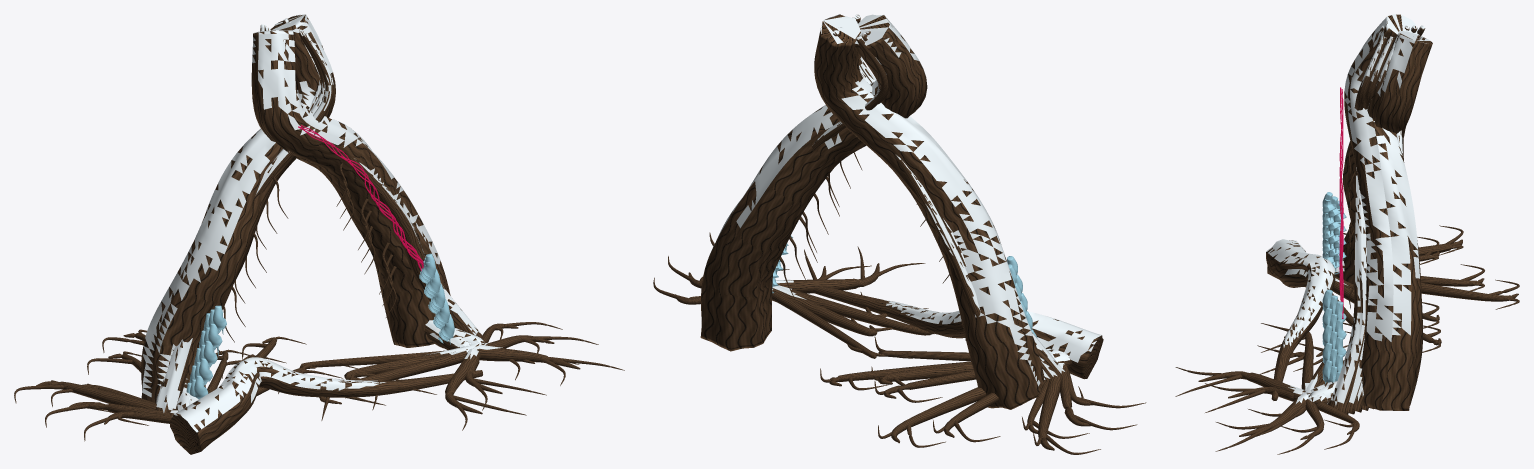
Rendered from Yggdrasil_Roots_Ice.glb.
3 views of the same model, side by side, from view 1: azimuth 30°, elevation 25°; view 2: azimuth 150°, elevation 25°; view 3: azimuth 270°, elevation 25° (orthographic). The views are drawn at different scales.
Visible parts, largest first — view 1: Ancient bark, Snow dust, Blue glacial ice, Dark burgundy corruption; view 2: Ancient bark, Snow dust, Blue glacial ice; view 3: Ancient bark, Snow dust, Blue glacial ice, Dark burgundy corruption.
Boxes of the visible parts, x1,y1,x2,y2 form: Ancient bark: (14, 15, 624, 454); Snow dust: (142, 14, 502, 432); Blue glacial ice: (186, 253, 454, 399); Dark burgundy corruption: (298, 125, 423, 271); Ancient bark: (653, 14, 1146, 454); Snow dust: (708, 14, 1102, 386); Blue glacial ice: (772, 235, 1037, 337); Ancient bark: (1175, 14, 1519, 454); Snow dust: (1266, 14, 1430, 405); Blue glacial ice: (1322, 192, 1346, 383); Dark burgundy corruption: (1339, 87, 1343, 318).
Size of the model in its own units: 46.43 by 31.21 by 29.38.
Materials: 4 (1 with a texture image).
